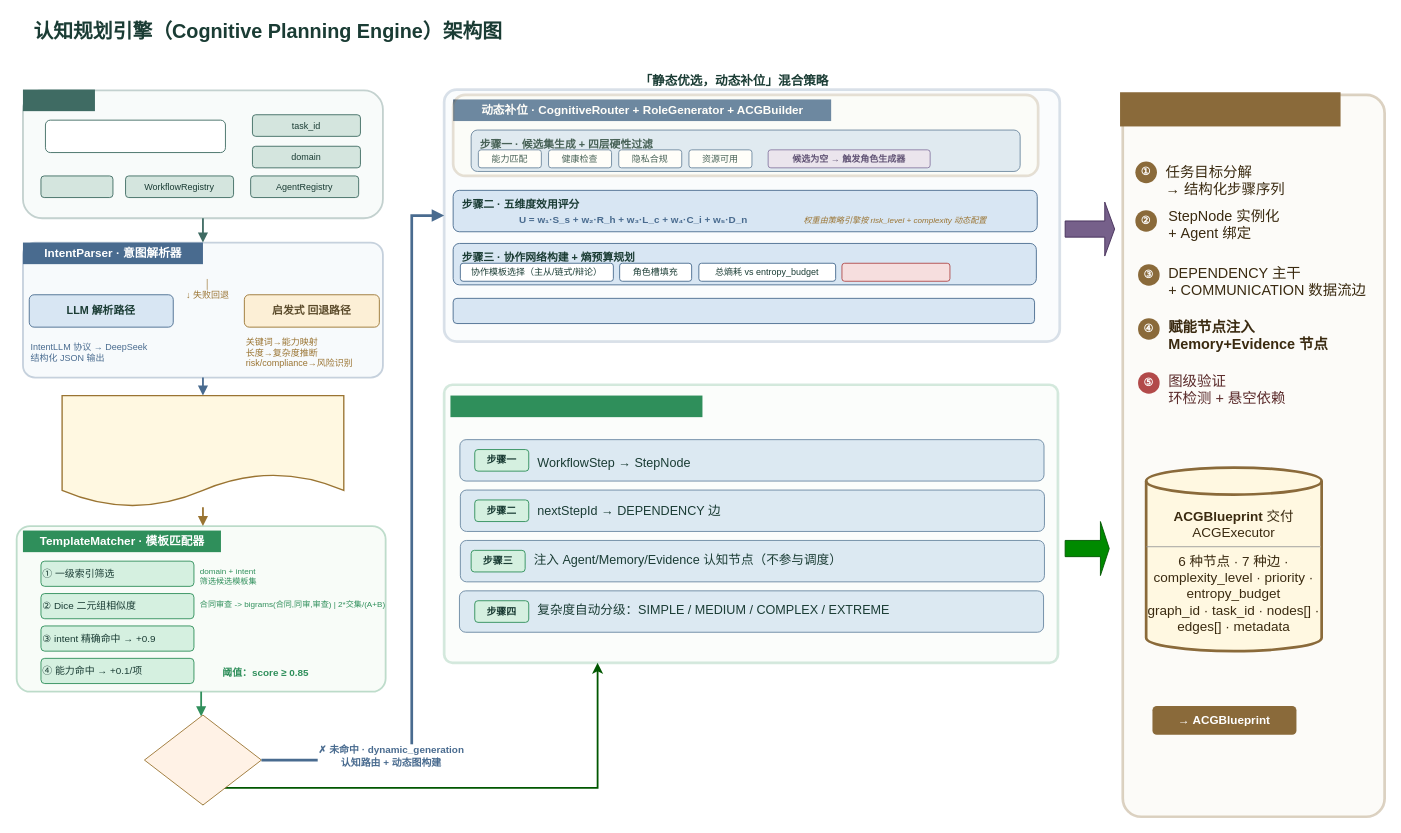
The diagram is 1401 pixels wide and 833 high, and some of its shapes have lost their labels. The centre of each missing label's shape, as x and y in pixels:
"ACGBuilder · 智能体计算图构建器 ← 静态/动态两条路径汇聚" goes at pixel 1230 109.
"task_type" goes at pixel 76 186.
"TaskSemanticProfile 任务语义画像" goes at pixel 202 450.
"命中？" goes at pixel 202 759.
"步骤四 · 最终检查 + 资源预留 + 绑定 → CollaborationNetwork" goes at pixel 743 310.
"用户自然语言意图" goes at pixel 135 136.
"超预算 → 回溯重选" goes at pixel 895 271.
"输入层" goes at pixel 58 100.
"静态优选 · promote_workflow_to_acg()" goes at pixel 576 406.
